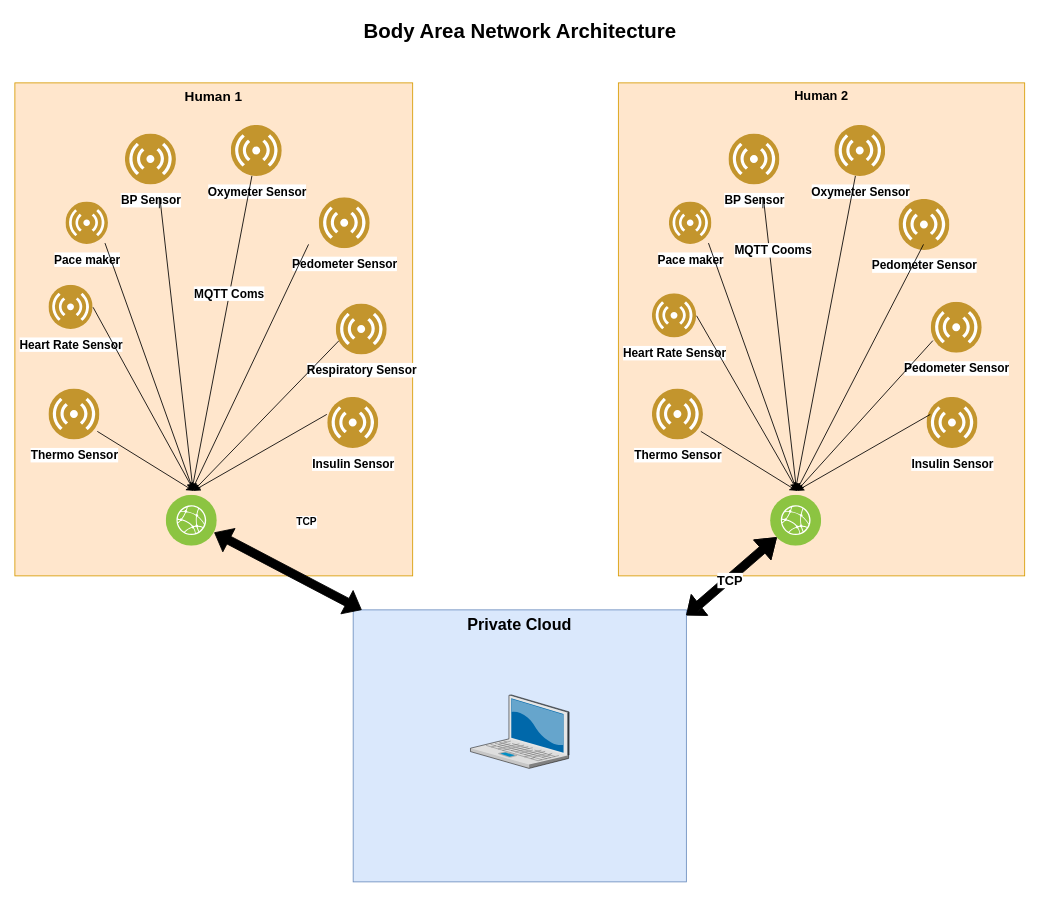
The diagram is 1040 pixels wide and 897 high, and some of its shapes have lost their labels. The shapes that lost their labels are listed below. From the top down, each one's centre as x and y in pixels, then its label:
At (x=191, y=520): "Edge Node 1".
At (x=795, y=520): "Edge Node 2".
At (x=519, y=731): "Local Machine".
